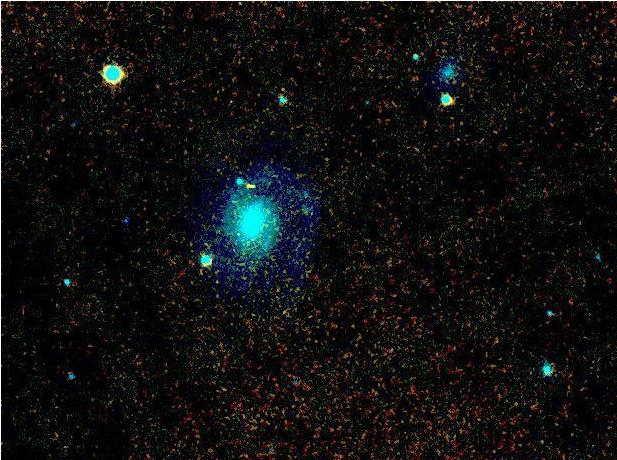star: (225, 168, 255, 198)
